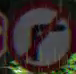Don't turn right: (9, 5, 70, 73)
